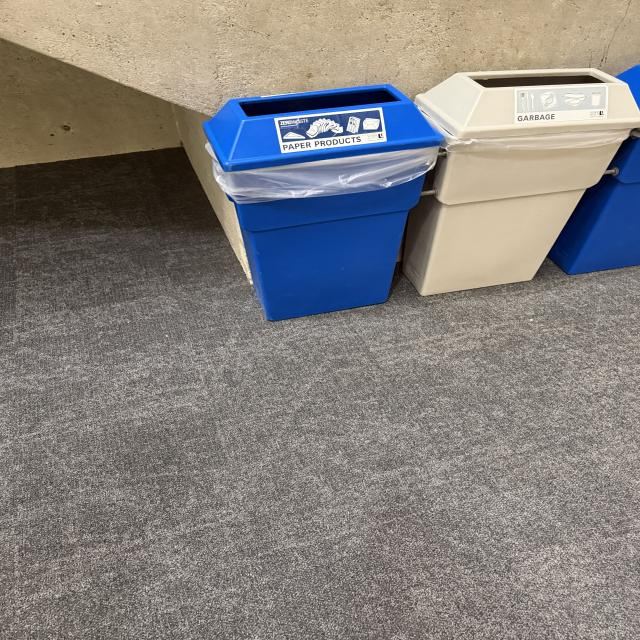Dustbin: (204, 62, 640, 323)
